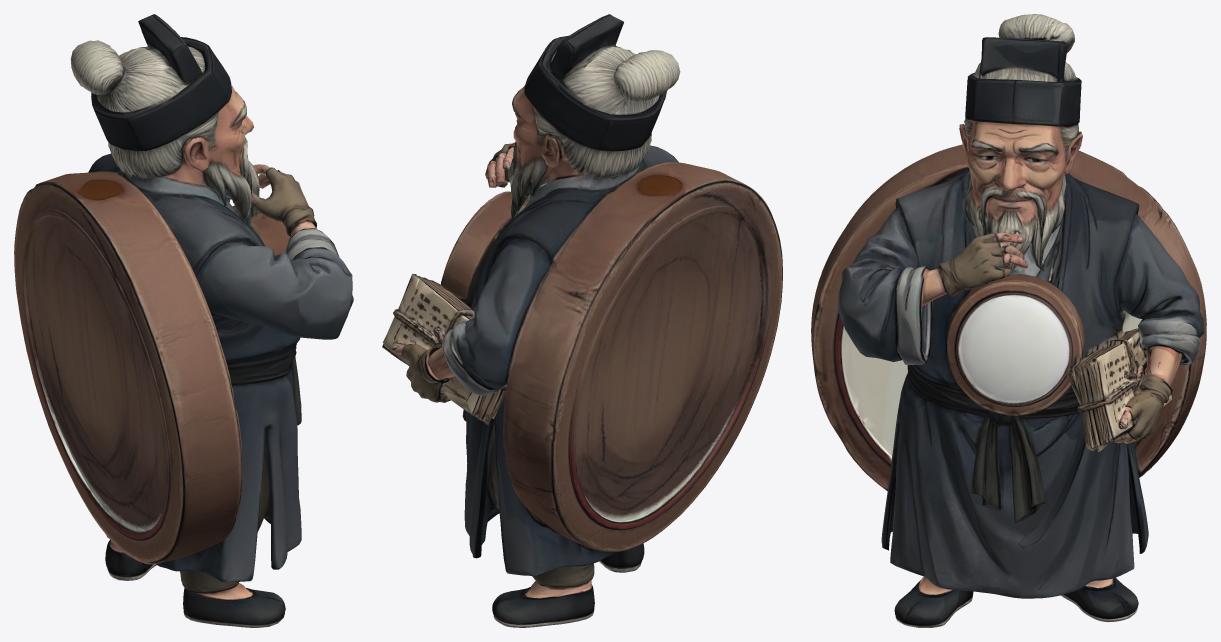
The model's file is p_b1p_shinaian.glb.
3 views of the same model, side by side, from view 1: azimuth 30°, elevation 25°; view 2: azimuth 150°, elevation 25°; view 3: azimuth 270°, elevation 25° (orthographic).
Parts seen in each view (by area): view 1: tripo_node_b7d4d432-1a33-4b8e-b0cb-b7a9d2cdf0fe; view 2: tripo_node_b7d4d432-1a33-4b8e-b0cb-b7a9d2cdf0fe; view 3: tripo_node_b7d4d432-1a33-4b8e-b0cb-b7a9d2cdf0fe.
Boxes of the visible parts, x1=… form: tripo_node_b7d4d432-1a33-4b8e-b0cb-b7a9d2cdf0fe: x1=14, y1=14, x2=353, y2=627; tripo_node_b7d4d432-1a33-4b8e-b0cb-b7a9d2cdf0fe: x1=382, y1=14, x2=782, y2=627; tripo_node_b7d4d432-1a33-4b8e-b0cb-b7a9d2cdf0fe: x1=811, y1=14, x2=1206, y2=627.
Bounding box in the file's own units: 0.4739 × 0.9799 × 0.6271.
Materials: 1 (1 with a texture image).
